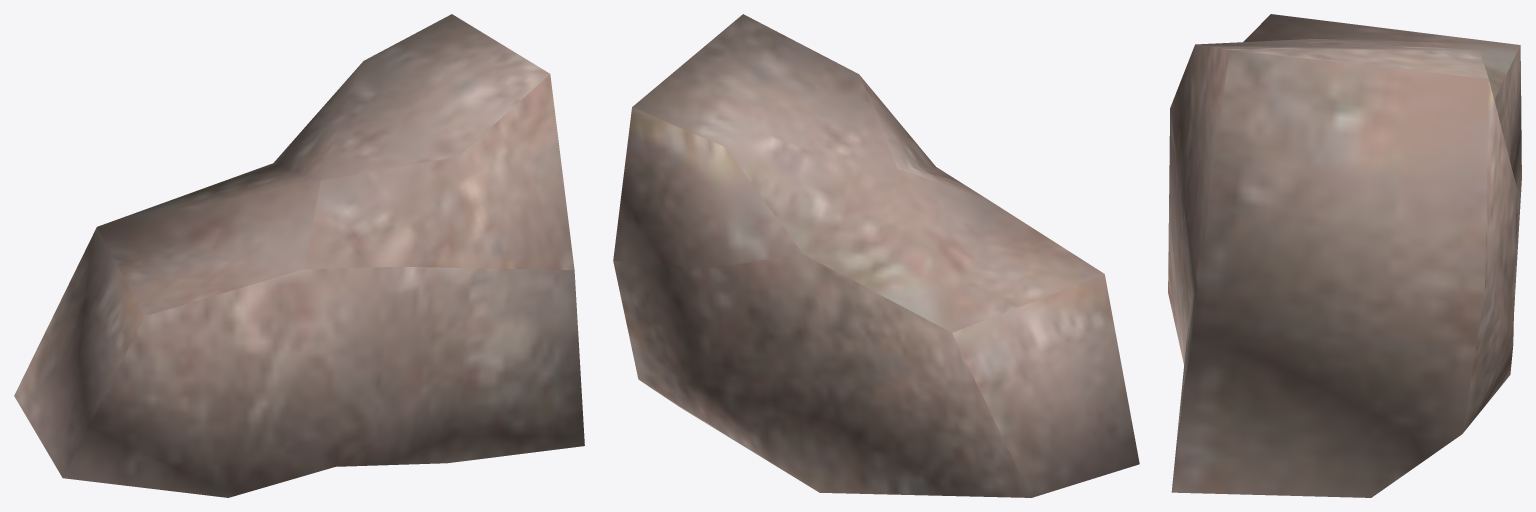
The model's file is Q_Limestone_4.fbx.
The picture shows the model from 3 angles, left to right: view 1: azimuth 30°, elevation 25°; view 2: azimuth 150°, elevation 25°; view 3: azimuth 270°, elevation 25°; orthographic projection. The views are drawn at different scales.
Visible parts, largest first — view 1: Aset_rock_rough_S_udqhfcyva_05_LOD8; view 2: Aset_rock_rough_S_udqhfcyva_05_LOD8; view 3: Aset_rock_rough_S_udqhfcyva_05_LOD8.
Part boxes in pixels (x1,y1,x2,y2): Aset_rock_rough_S_udqhfcyva_05_LOD8: [14, 14, 584, 497]; Aset_rock_rough_S_udqhfcyva_05_LOD8: [613, 14, 1139, 497]; Aset_rock_rough_S_udqhfcyva_05_LOD8: [1168, 14, 1521, 497].
Bounding box in the file's own units: 3.97 × 2.88 × 2.09.
1 material, 1 textured.
